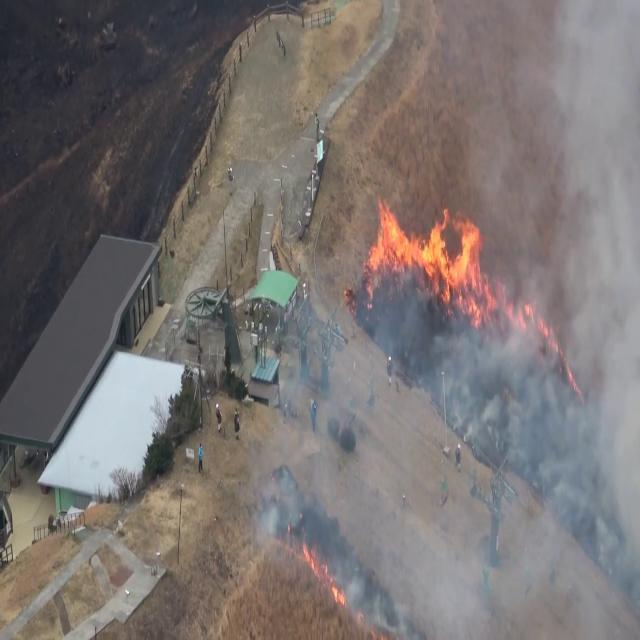Fire: (364, 194, 492, 314), (301, 532, 345, 608)
Smoke: (255, 302, 639, 638), (470, 1, 640, 639)
